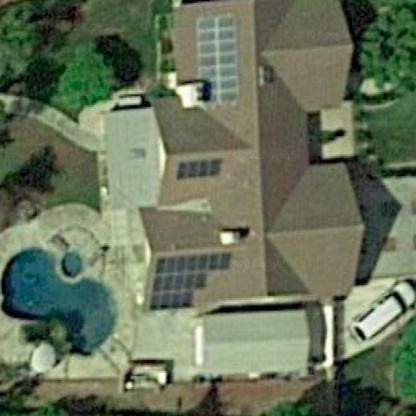car: (351, 272, 416, 349)
solar_panel: (189, 6, 249, 116), (146, 246, 236, 311), (172, 152, 223, 187)
swimming_pool: (6, 235, 125, 364)
